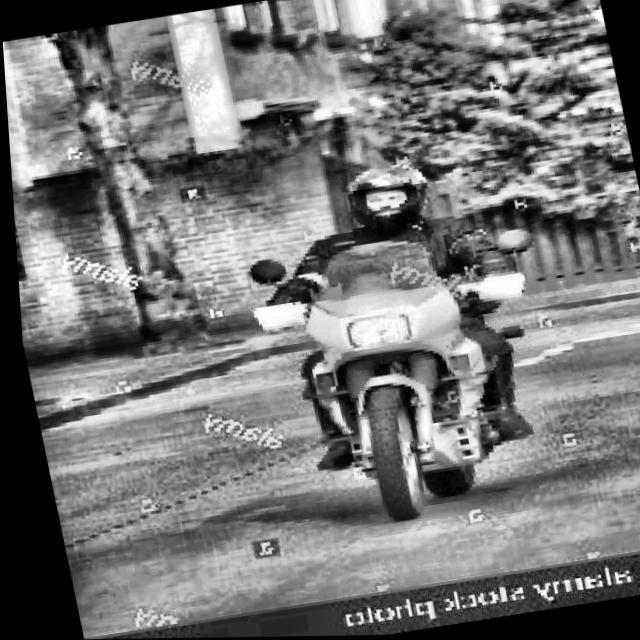motorcycle: (215, 202, 610, 549)
